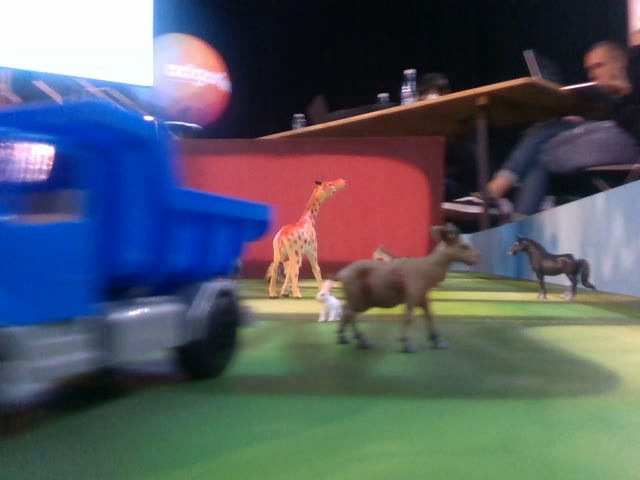toy: (259, 168, 349, 302), (505, 229, 602, 306)
